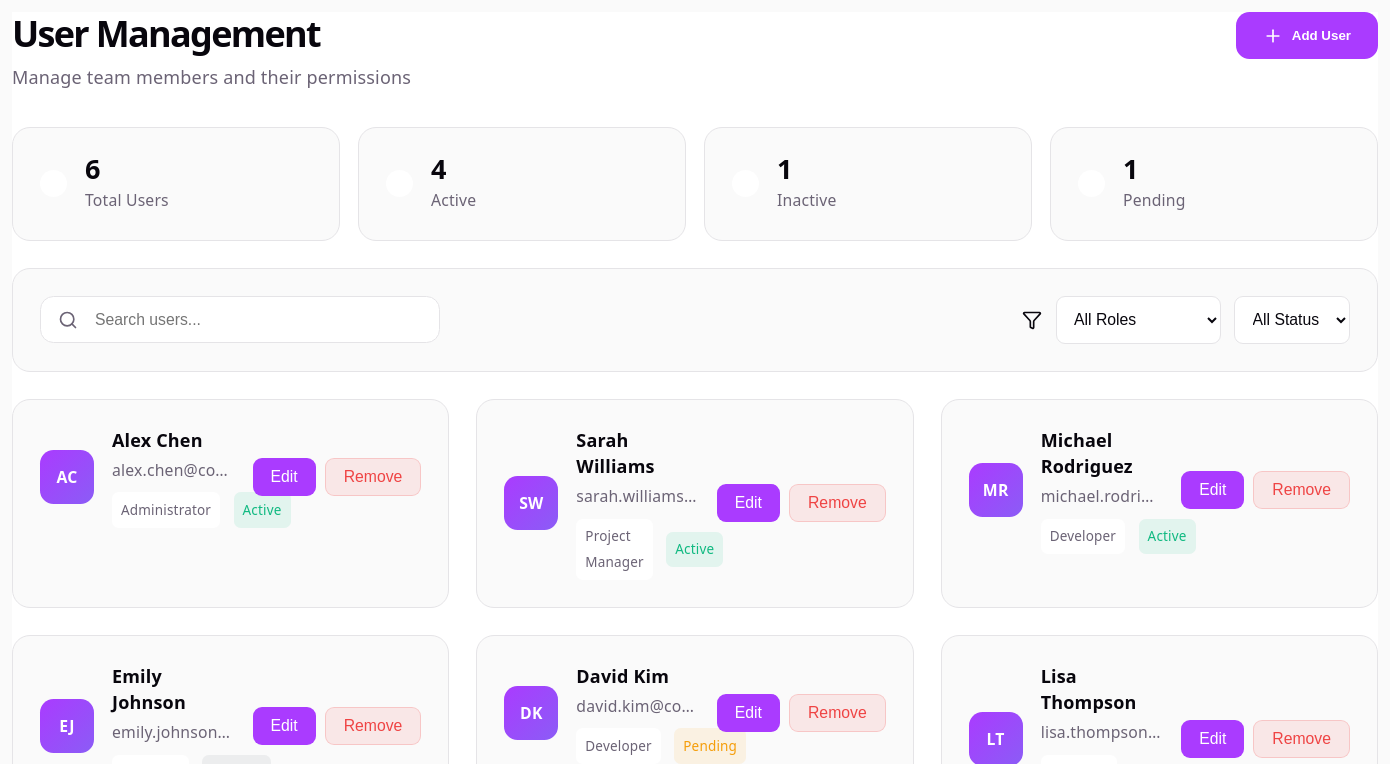
Test case: UserManagement › Search functionality (P0) › clears search results when input is cleared
In the field with placeholder "Search users...": x=240, y=320 [40, 296, 440, 343], type "Alex Chen"
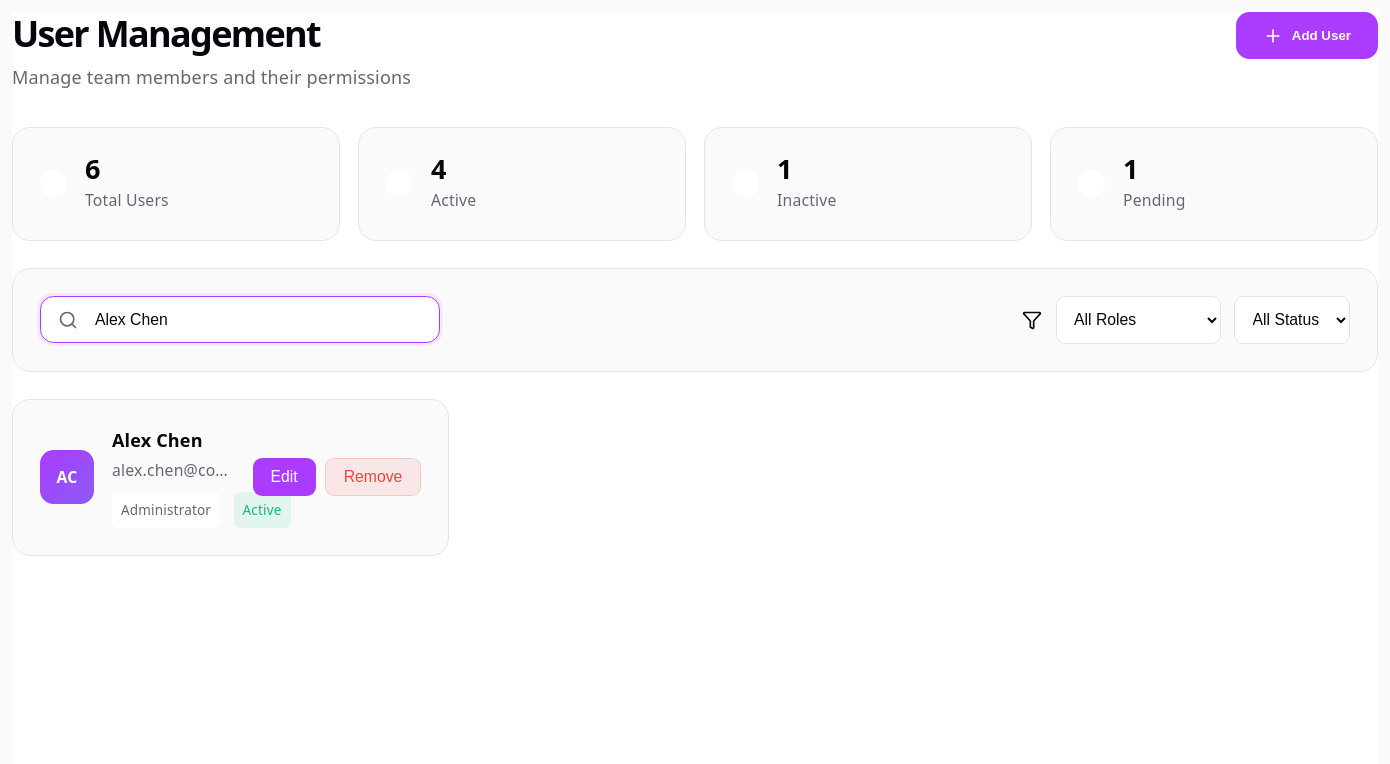
Result: the heading "Sarah Williams" is gone
Clear the field with placeholder "Search users...": x=240, y=320 [40, 296, 440, 343]
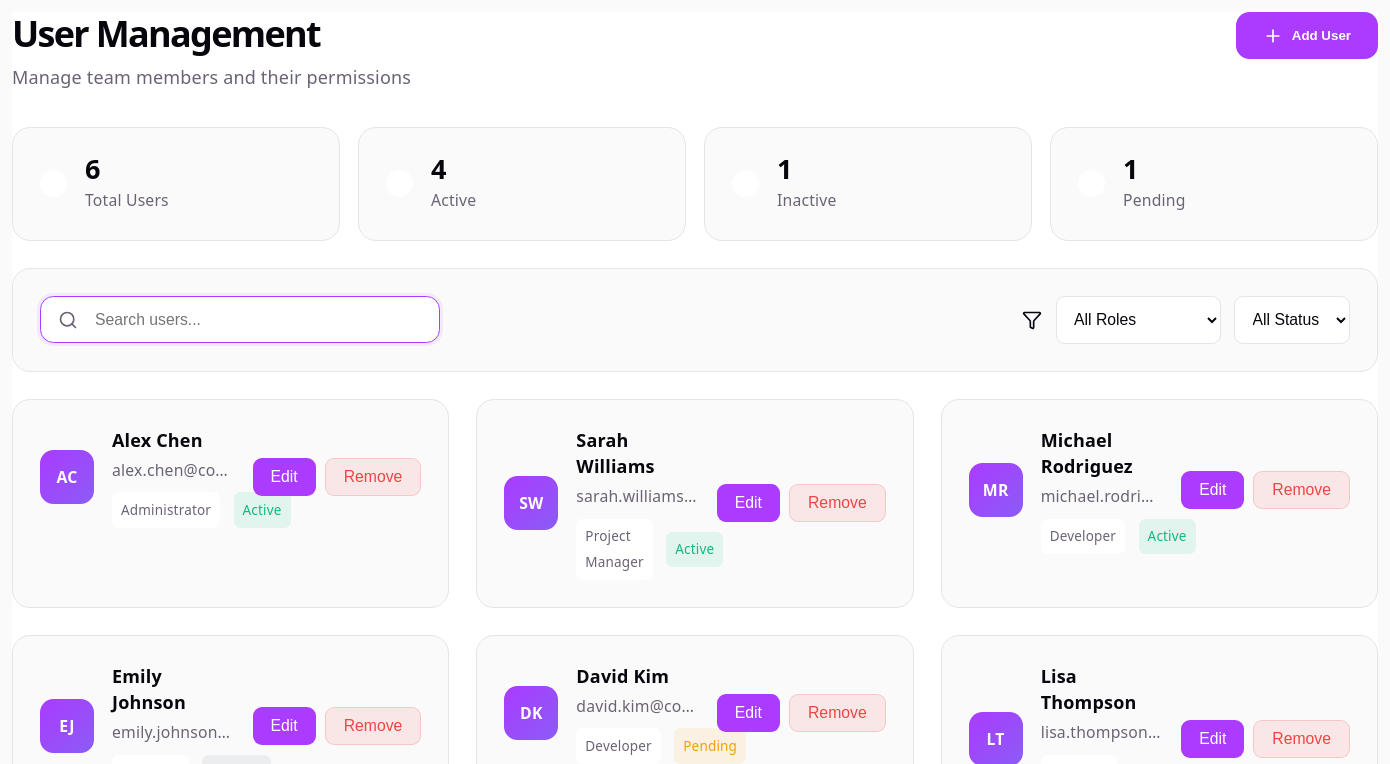
Result: the heading "Sarah Williams" is shown at [576, 428, 655, 478]
Result: the heading "Michael Rodriguez" is shown at [1041, 428, 1133, 478]
Result: the heading "Emily Johnson" is shown at [112, 664, 186, 714]
